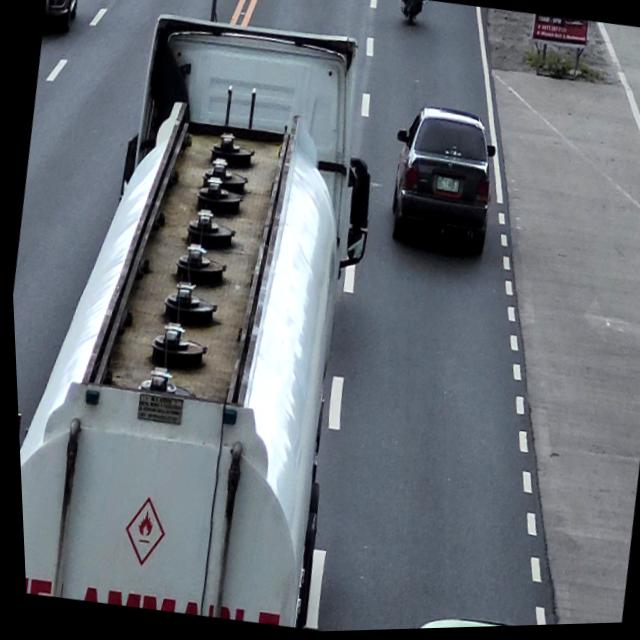Car: (376, 101, 505, 272), (40, 0, 88, 46)
License-Plate: (431, 175, 460, 199)
Truck: (0, 0, 412, 640)
